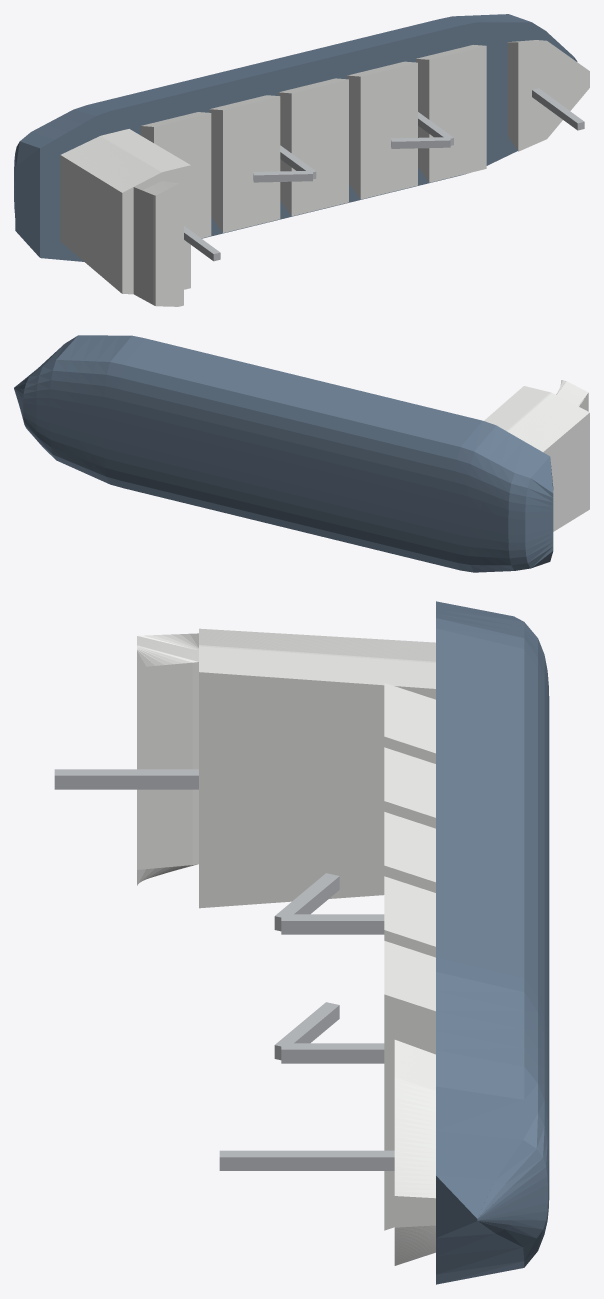
File: loft-bulker.glb
3 views of the same model, one above another, from view 1: azimuth 30°, elevation 25°; view 2: azimuth 150°, elevation 25°; view 3: azimuth 270°, elevation 25° (orthographic). The views are drawn at different scales.
Parts seen in each view (by area): view 1: bulker; view 2: bulker; view 3: bulker.
Part boxes in pixels (x1,y1,x2,y2): bulker: (14,14,589,306); bulker: (14,335,589,572); bulker: (54,601,549,1284).
Size of the model in its own units: 1.96 by 0.5 by 0.7784.
